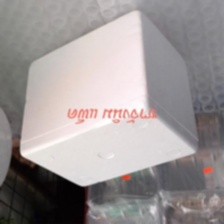foam_box: (16, 6, 204, 190)
